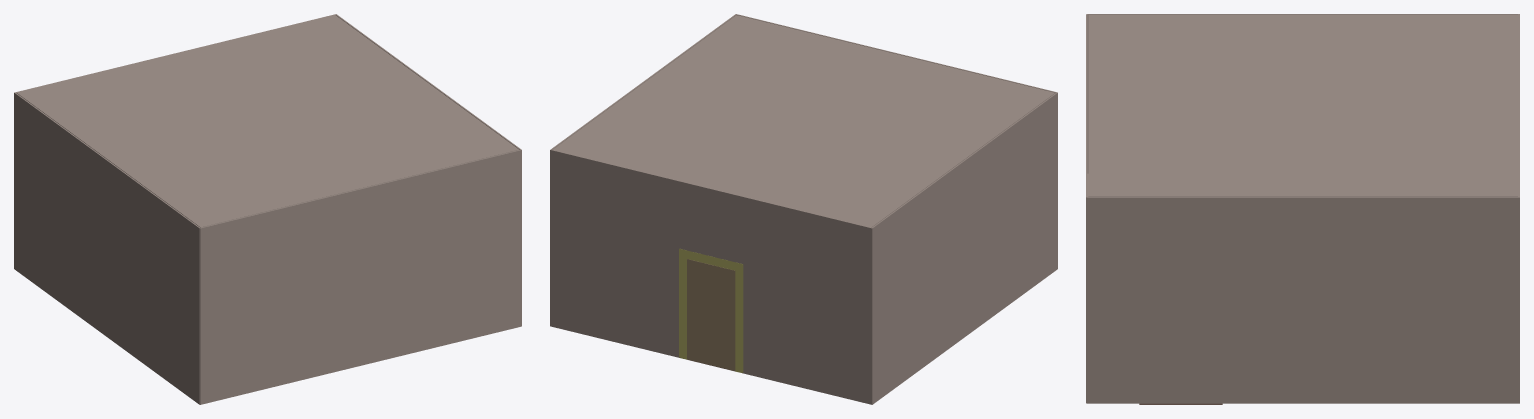
Rendered from Room42_Storeroom.fbx.
3 views of the same model, side by side, from view 1: azimuth 30°, elevation 25°; view 2: azimuth 150°, elevation 25°; view 3: azimuth 270°, elevation 25° (orthographic). The views are drawn at different scales.
Parts seen in each view (by area): view 1: Roof, WallPosZ, WallPosX, WallNegX; view 2: Roof, WallSlicedNegZ, WallPosX, DoorNegZ, DoorFrameNegZ, WallNegX, WallPosZ; view 3: WallNegX, Roof, WallPosX, WallPosZ.
Part boxes in pixels (x1,y1,x2,y2): Roof: [17, 15, 518, 227]; WallPosZ: [200, 149, 521, 404]; WallPosX: [14, 92, 199, 404]; WallNegX: [336, 14, 521, 325]; Roof: [553, 15, 1054, 227]; WallSlicedNegZ: [550, 149, 872, 404]; WallPosX: [870, 92, 1057, 404]; DoorNegZ: [687, 259, 735, 370]; DoorFrameNegZ: [679, 248, 743, 372]; WallNegX: [550, 14, 735, 326]; WallPosZ: [736, 14, 1057, 92]; WallNegX: [1086, 197, 1519, 403]; Roof: [1088, 15, 1517, 196]; WallPosX: [1087, 14, 1519, 173]; WallPosZ: [1086, 14, 1088, 403].
Bounding box in the file's own units: 100 × 53.31 × 100.
